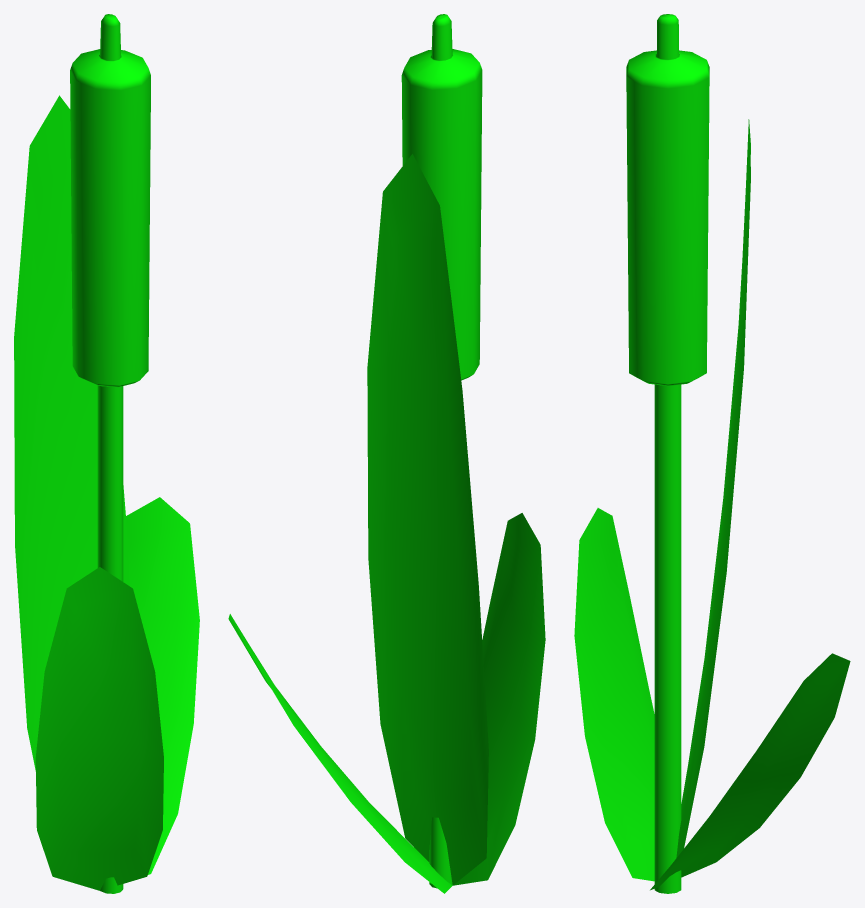
The model's file is Cattail_1.fbx.
The picture shows the model from 3 angles, left to right: view 1: azimuth 30°, elevation 25°; view 2: azimuth 150°, elevation 25°; view 3: azimuth 270°, elevation 25°; orthographic projection.
Visible parts, largest first — view 1: Cattail_1; view 2: Cattail_1; view 3: Cattail_1.
Part boxes in pixels (x1,y1,x2,y2): Cattail_1: (14, 14, 199, 893); Cattail_1: (228, 14, 545, 893); Cattail_1: (574, 14, 850, 893).
Size of the model in its own units: 68.59 by 246 by 70.53.
